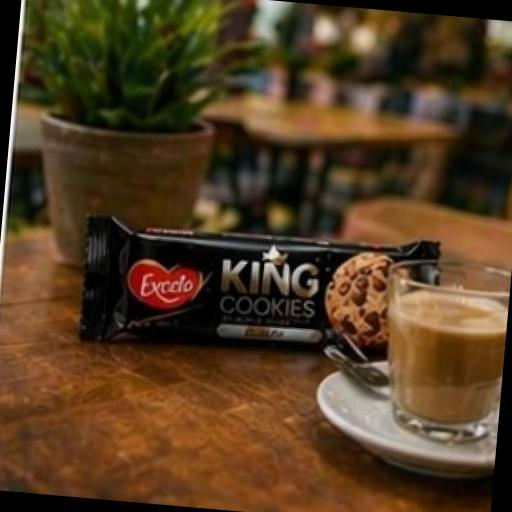king-cooking: (30, 121, 494, 454)
